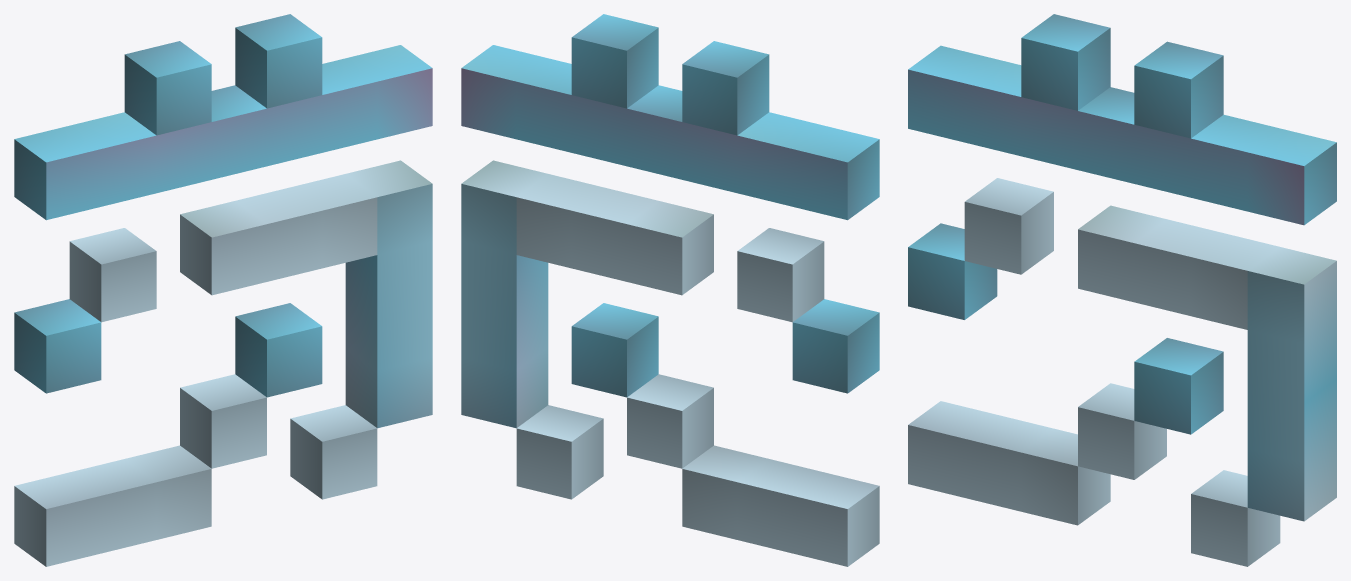
Rendered from BillboardModule_ChineseSymbol_B_00.fbx.
3 views of the same model, side by side, from view 1: azimuth 30°, elevation 25°; view 2: azimuth 150°, elevation 25°; view 3: azimuth 330°, elevation 25° (orthographic). The views are drawn at different scales.
Visible parts, largest first — view 1: BillboardModule_ChineseSymbol_B_00; view 2: BillboardModule_ChineseSymbol_B_00; view 3: BillboardModule_ChineseSymbol_B_00.
Boxes of the visible parts, <box> form: BillboardModule_ChineseSymbol_B_00: <box>14,14,432,566</box>; BillboardModule_ChineseSymbol_B_00: <box>461,14,879,566</box>; BillboardModule_ChineseSymbol_B_00: <box>908,14,1336,566</box>.
Size of the model in its own units: 35 by 40 by 5.
